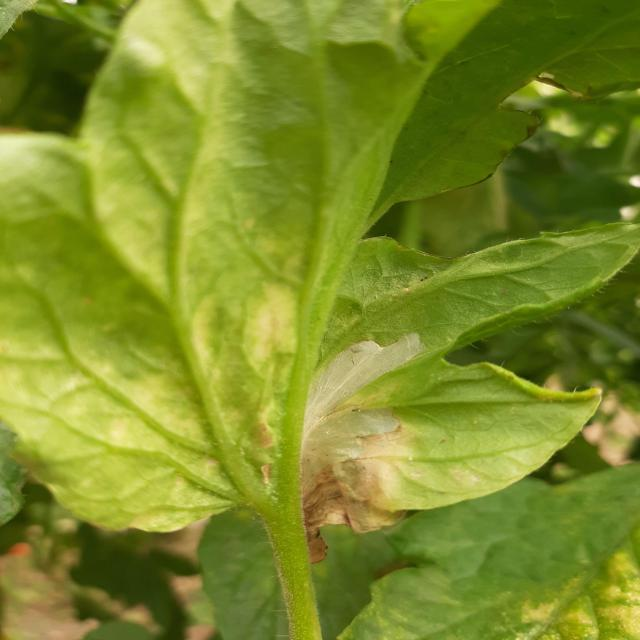Tuta absoluta: (288, 319, 427, 551)
